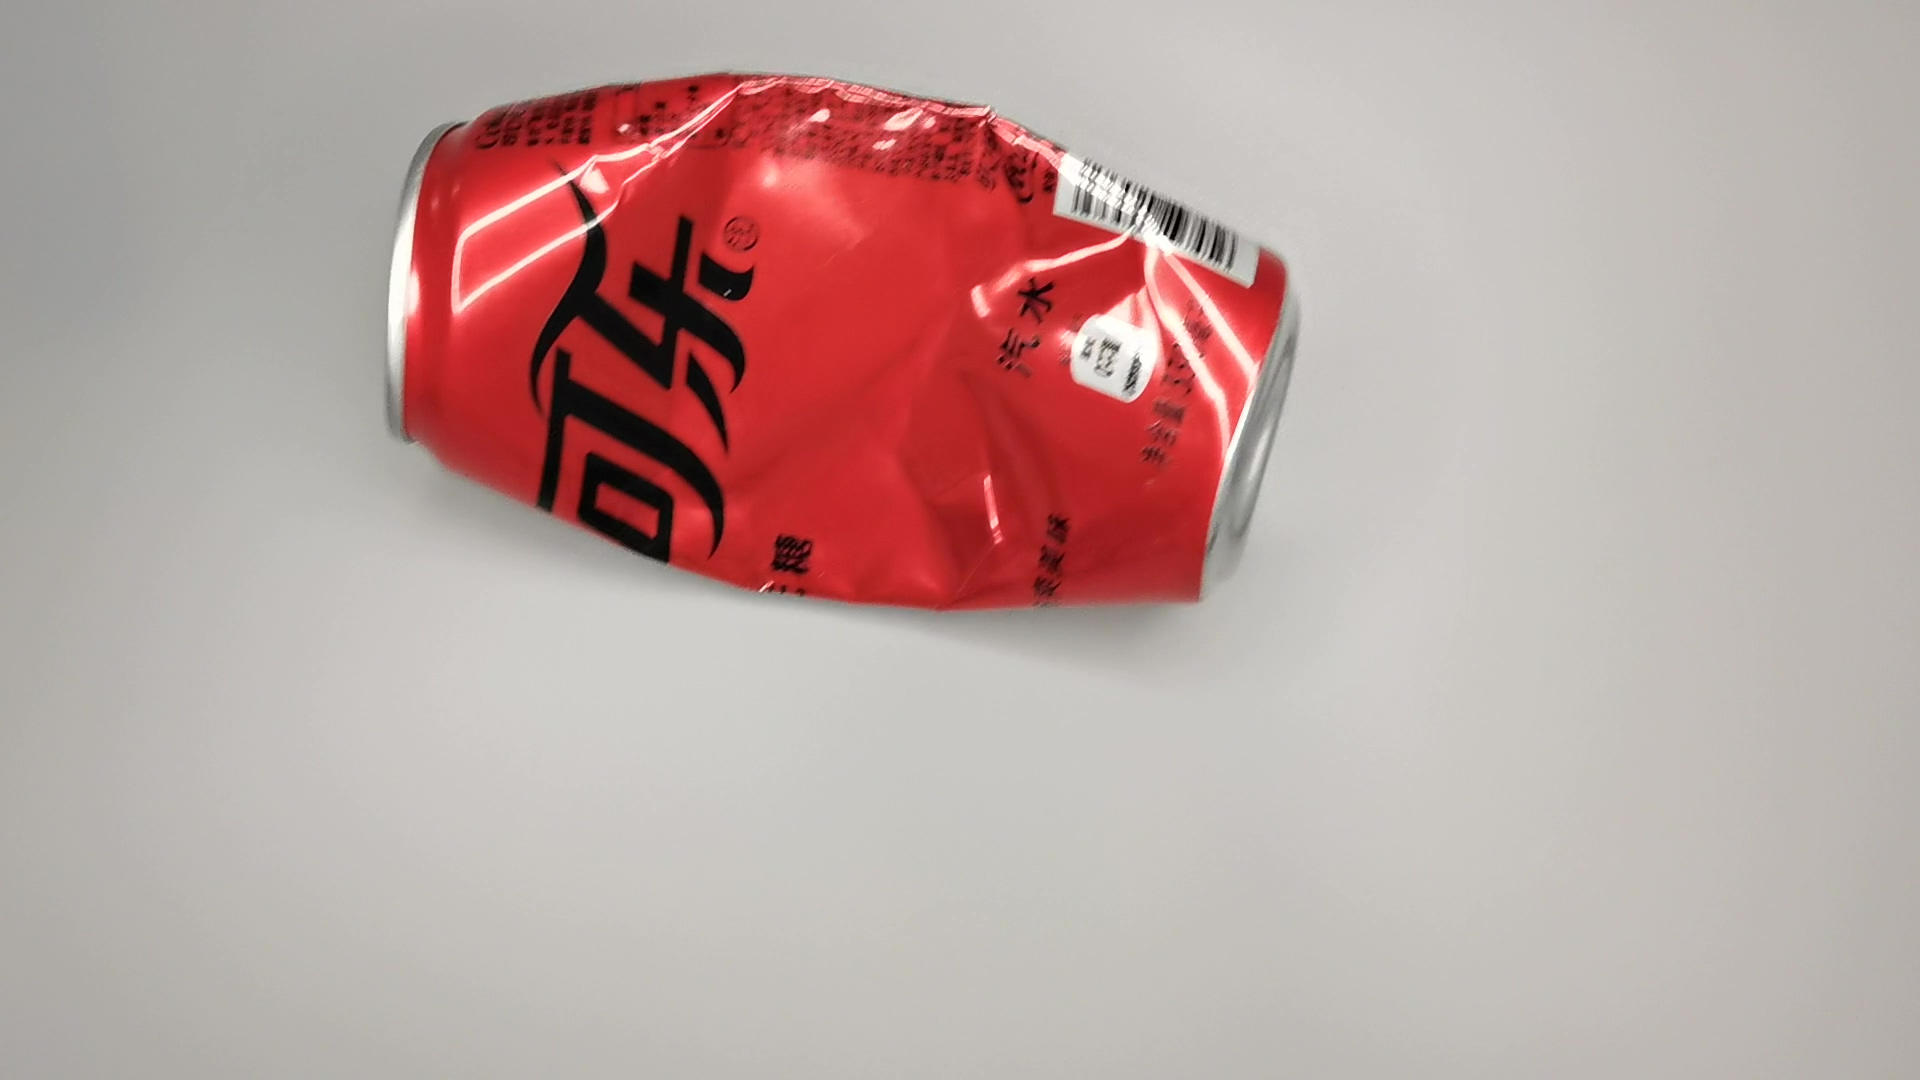can: (371, 65, 1308, 632)
